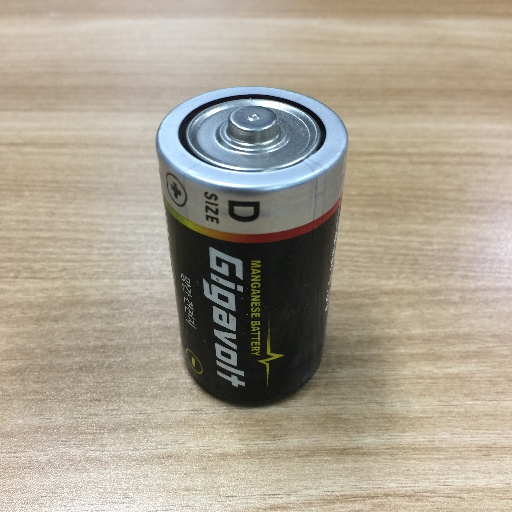Battery_0: (146, 76, 357, 422)
